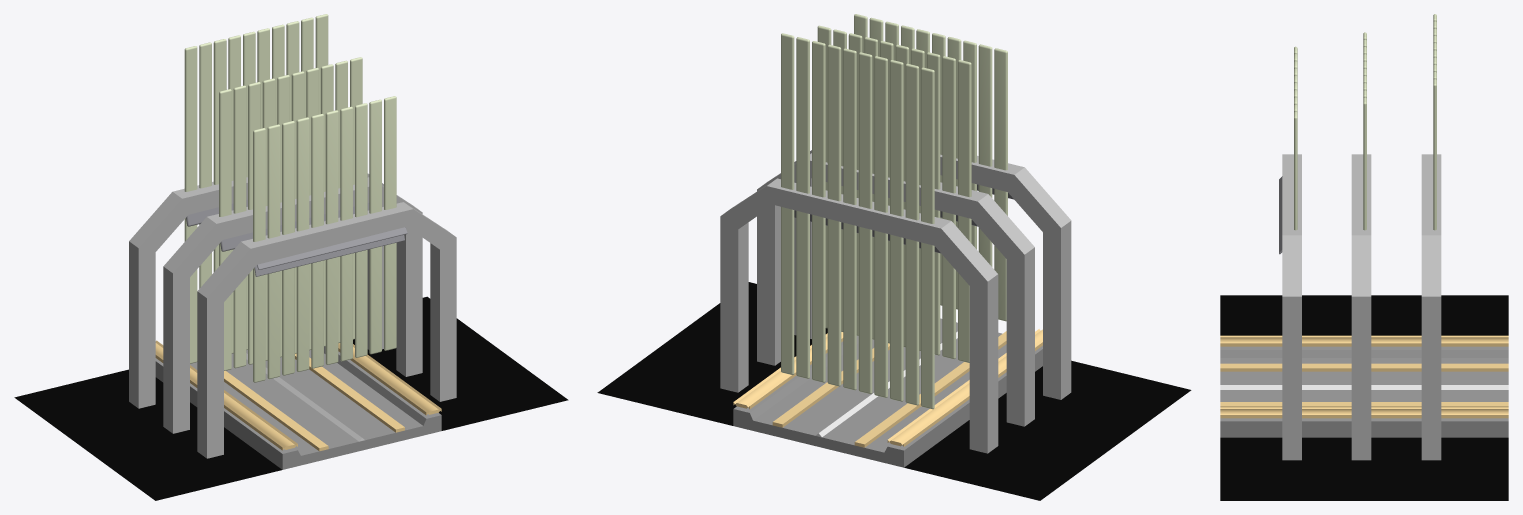
Rendered from station__curtain2.glb.
3 renders of one model, left to right at view 1: azimuth 30°, elevation 25°; view 2: azimuth 150°, elevation 25°; view 3: azimuth 270°, elevation 25°, orthographic. The views are drawn at different scales.
Visible parts, largest first — view 1: Flap (×3), Boolean (×3), _basefloor, road, Flap 2 (×2), Flap 3 (×2), Flap 4 (×2), Flap 5 (×2), Flap 9 (×2), Flap 7 (×2), Flap 8 (×2), Flap 10 (×2) (+8 smaller); view 2: Boolean (×3), _basefloor, Flap (×3), road, Flap 2 (×2), Flap 3 (×2), Flap 5 (×2), Flap 7 (×2), Flap 10 (×2), Flap 8 (×2), Flap 9 (×2), Flap 6 (×2) (+5 smaller); view 3: _basefloor, Boolean (×3), road, road__top--left, road__top--right, road__rail--left, road__rail--right, road__rail--middle, Flap 10 (×2), Flap.
Boxes of the visible parts, bbox=[...] form: Flap (×3): bbox=[184, 46, 396, 382]; Boolean (×3): bbox=[129, 173, 456, 458]; _basefloor: bbox=[14, 296, 568, 500]; road: bbox=[155, 346, 441, 469]; Flap 2 (×2): bbox=[199, 42, 246, 368]; Flap 3 (×2): bbox=[213, 39, 260, 364]; Flap 4 (×2): bbox=[228, 35, 275, 360]; Flap 5 (×2): bbox=[243, 31, 289, 357]; Flap 9 (×2): bbox=[301, 17, 347, 343]; Flap 7 (×2): bbox=[272, 24, 318, 350]; Flap 8 (×2): bbox=[286, 21, 333, 346]; Flap 10 (×2): bbox=[315, 14, 362, 339]; Boolean (×3): bbox=[720, 150, 1071, 453]; _basefloor: bbox=[597, 282, 1191, 500]; Flap (×3): bbox=[854, 14, 1007, 409]; road: bbox=[733, 318, 1042, 467]; Flap 2 (×2): bbox=[905, 56, 955, 405]; Flap 3 (×2): bbox=[890, 52, 940, 401]; Flap 5 (×2): bbox=[858, 44, 909, 393]; Flap 7 (×2): bbox=[827, 37, 877, 386]; Flap 10 (×2): bbox=[781, 25, 831, 374]; Flap 8 (×2): bbox=[812, 33, 862, 382]; Flap 9 (×2): bbox=[796, 29, 846, 378]; Flap 6 (×2): bbox=[843, 41, 893, 390]; _basefloor: bbox=[1220, 295, 1508, 500]; Boolean (×3): bbox=[1282, 154, 1441, 460]; road: bbox=[1220, 346, 1508, 437]; road__top--left: bbox=[1220, 335, 1508, 346]; road__top--right: bbox=[1220, 407, 1508, 418]; road__rail--left: bbox=[1220, 363, 1508, 371]; road__rail--right: bbox=[1220, 402, 1508, 407]; road__rail--middle: bbox=[1220, 385, 1508, 389]; Flap 10 (×2): bbox=[1363, 79, 1436, 230]; Flap: bbox=[1294, 46, 1297, 230].
Bounding box in the file's own units: 10.8 × 8.55 × 6.4.
